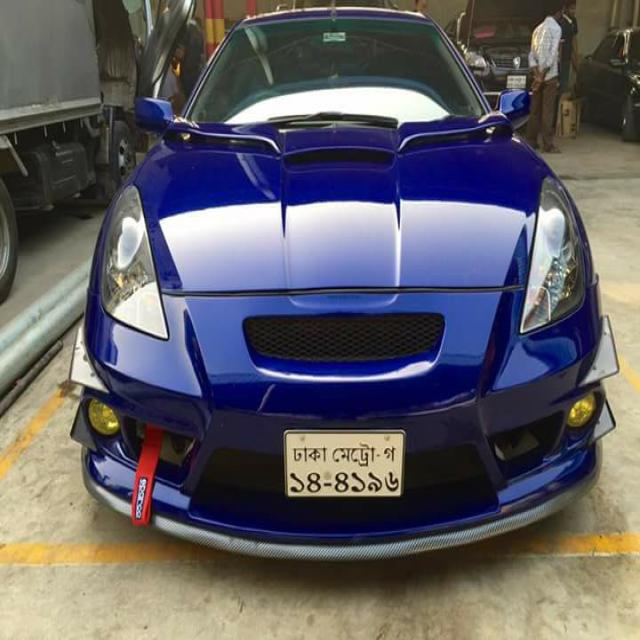numberplate: (283, 428, 405, 499)
